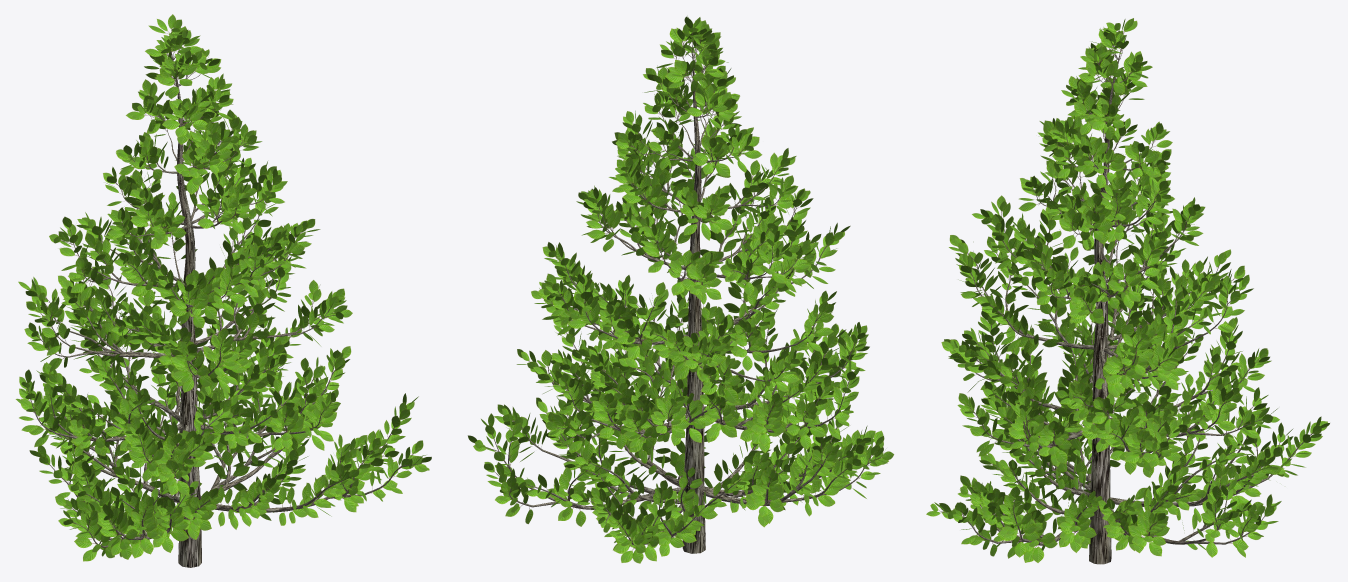
The model's file is pinetree.fbx.
3 renders of one model, left to right at view 1: azimuth 30°, elevation 25°; view 2: azimuth 150°, elevation 25°; view 3: azimuth 270°, elevation 25°, orthographic.
Parts seen in each view (by area): view 1: leaves, tree; view 2: leaves, tree; view 3: leaves, tree.
Boxes of the visible parts, bbox=[...] form: leaves: bbox=[16, 14, 431, 561]; tree: bbox=[28, 32, 418, 567]; leaves: bbox=[468, 16, 893, 563]; tree: bbox=[483, 33, 880, 553]; leaves: bbox=[926, 18, 1329, 562]; tree: bbox=[941, 32, 1312, 564].
Size of the model in its own units: 341 by 494 by 340.
